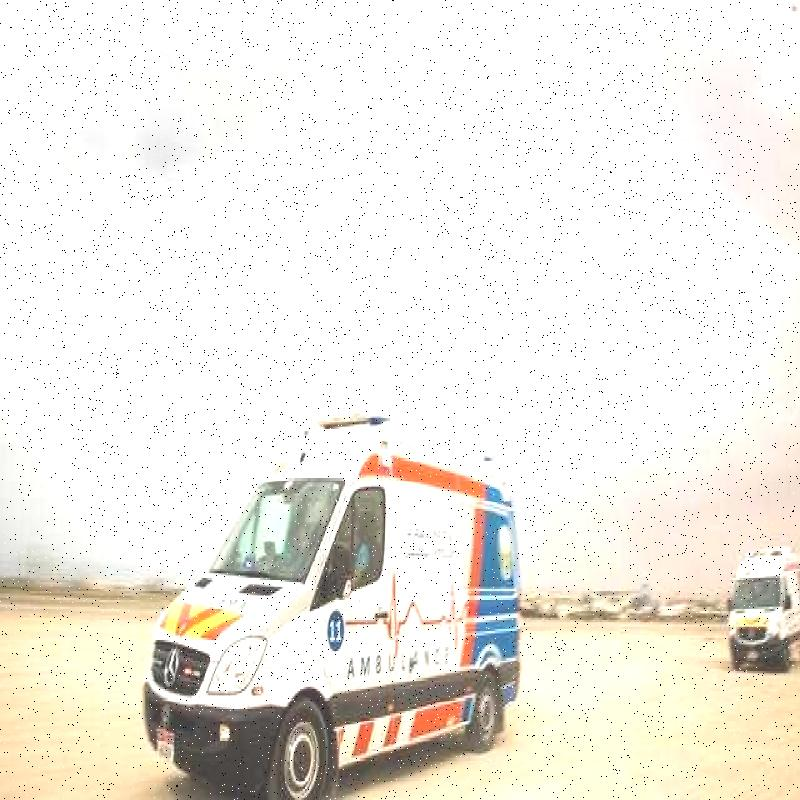AmbulanceSiren: (314, 397, 394, 438)
